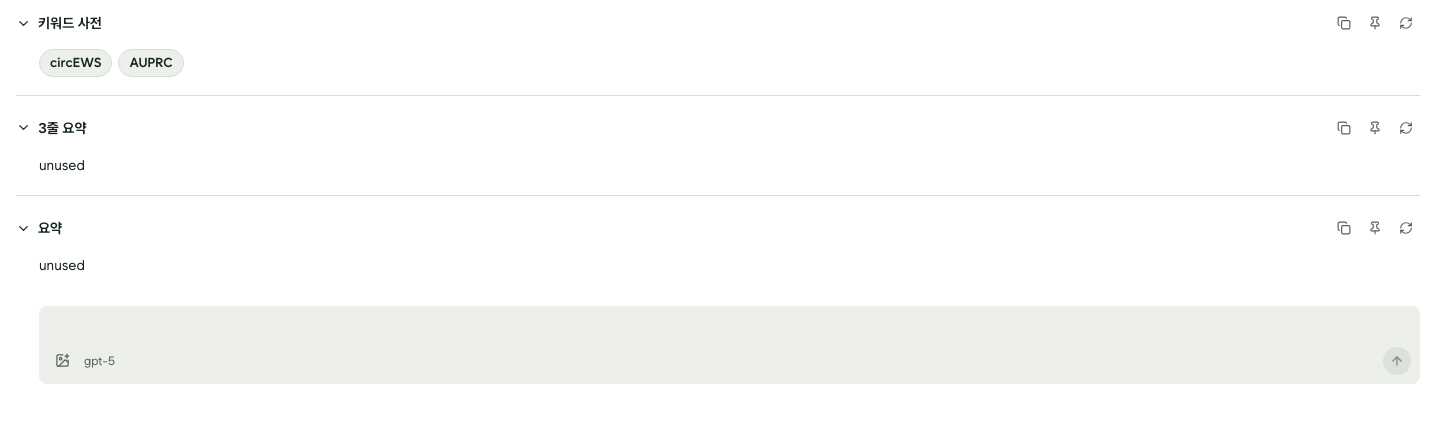
Test case: AiOverviewPanel › shows keywords as tags that open their definition
The width and height of the screenshot is (1437, 434).
Expected: the button "AUPRC" is shown, [118, 49, 184, 76]
Expected: the text "순환부전 조기 경보 시스템." is not shown
Click the button "circEWS": point(76, 63) [39, 49, 112, 76]
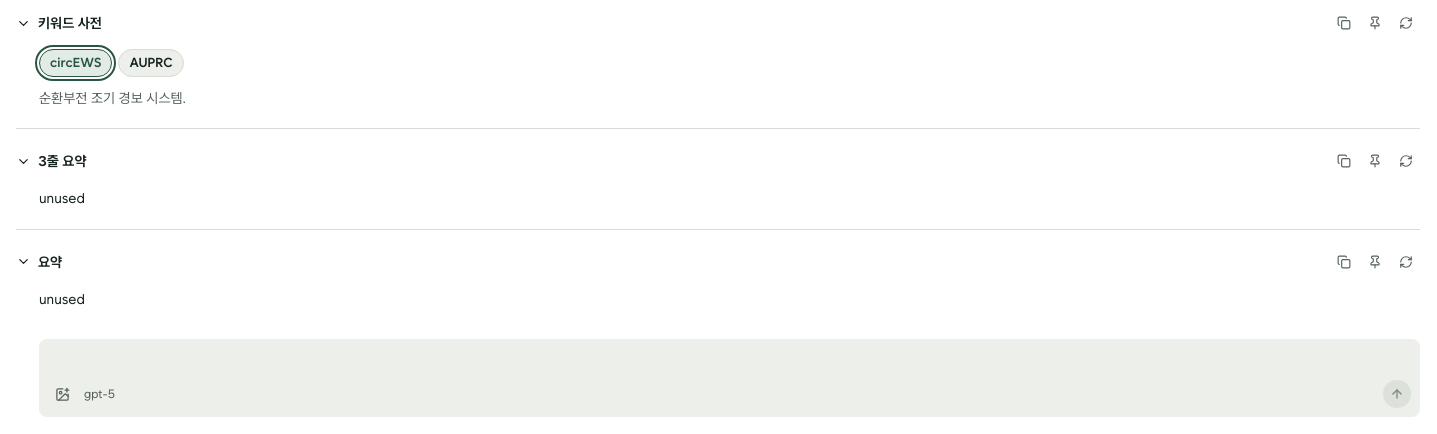
Expected: the text "순환부전 조기 경보 시스템." is shown, [39, 90, 186, 106]
Click the button "circEWS": point(76, 63) [39, 49, 112, 76]
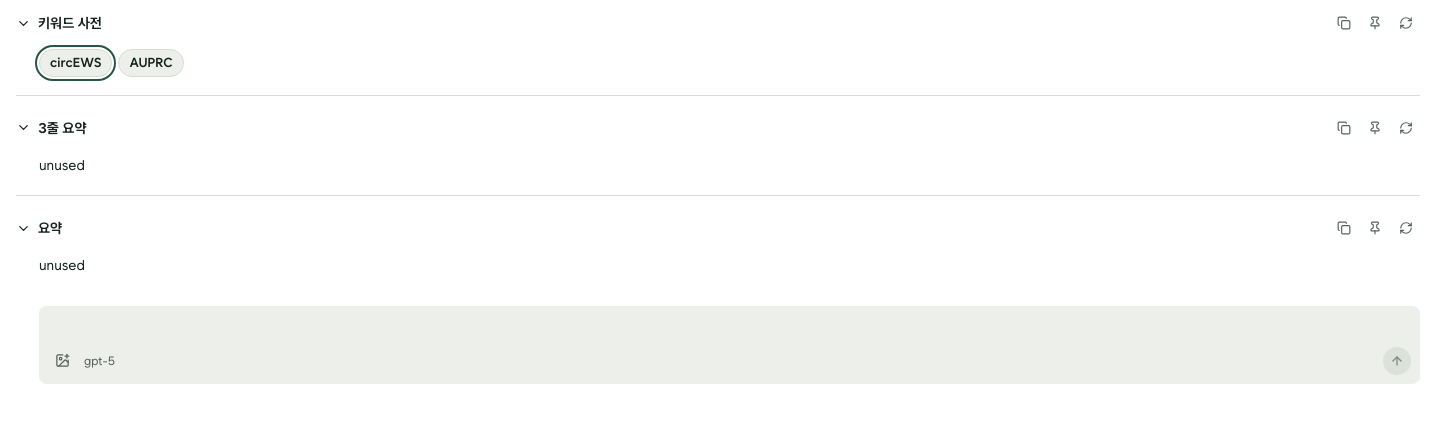
Expected: the text "순환부전 조기 경보 시스템." is gone
